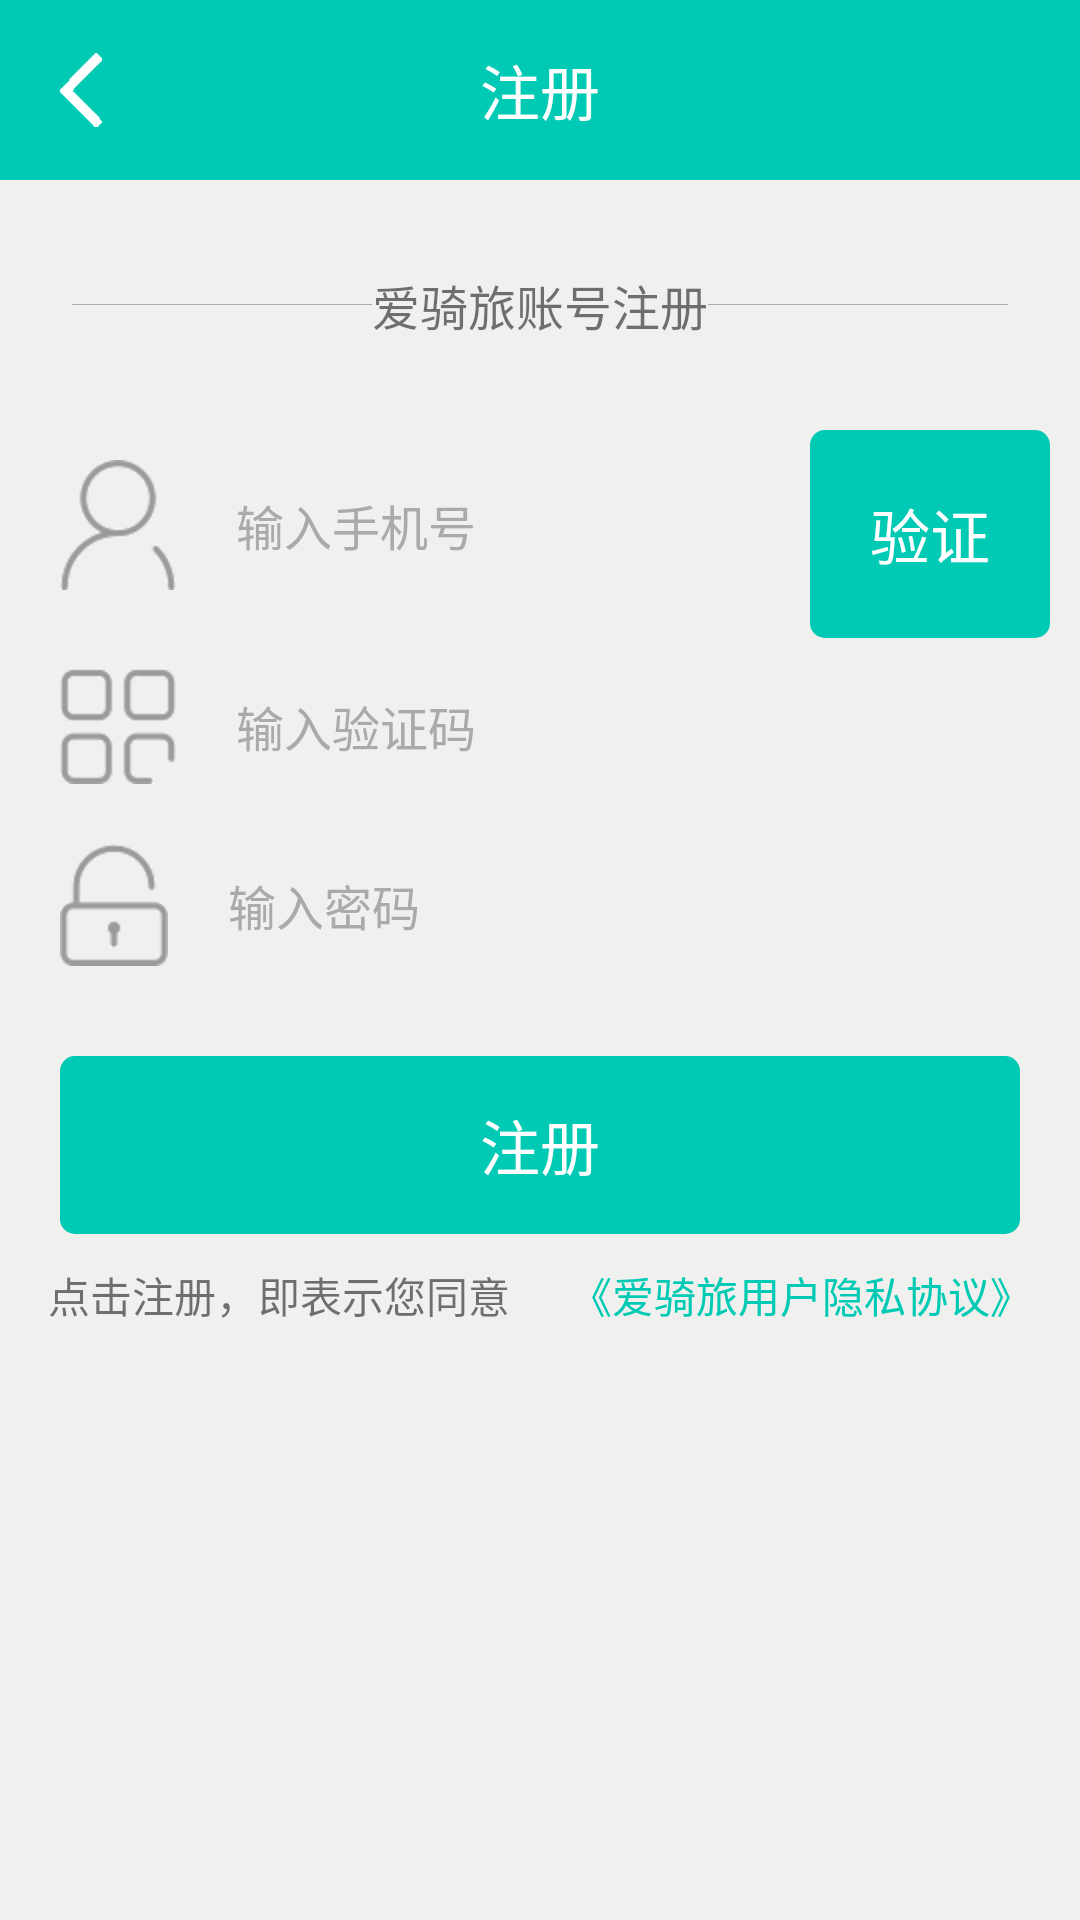

Named icons in this screenshot (1080px×1920px) and their bounding boxes, bbox=(x1, y1, x2, y2):
back: bbox=(60, 53, 102, 127)
